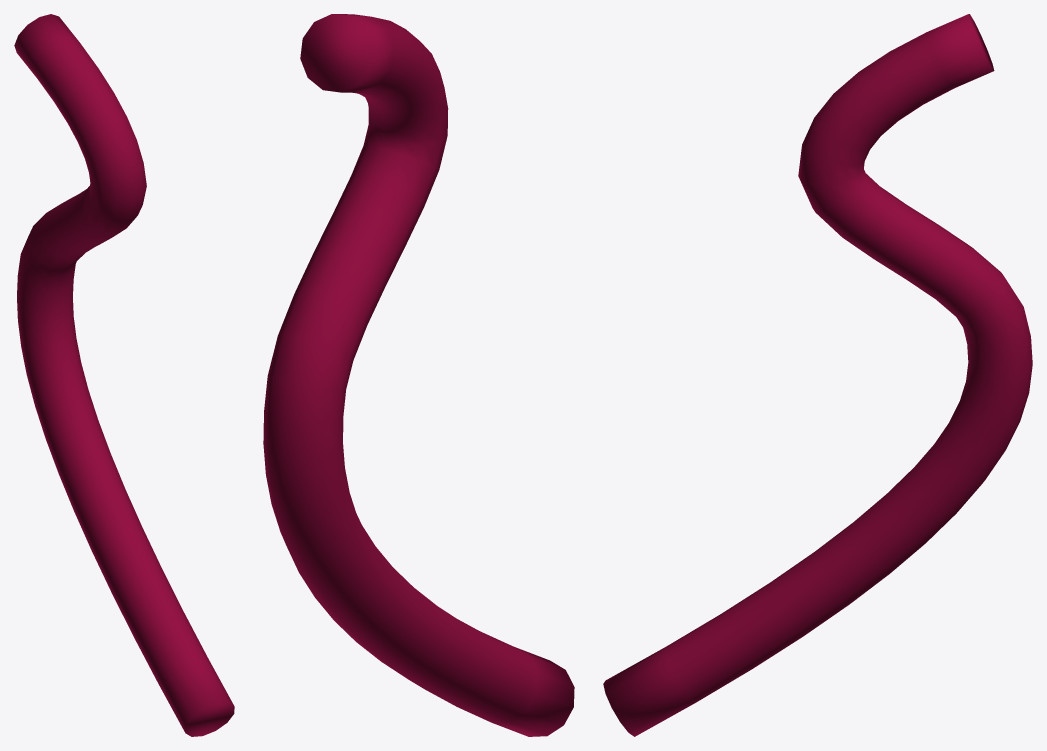
Rendered from droga_007.obj.
3 views of the same model, side by side, from view 1: azimuth 30°, elevation 25°; view 2: azimuth 150°, elevation 25°; view 3: azimuth 270°, elevation 25° (orthographic). The views are drawn at different scales.
Parts seen in each view (by area): view 1: DROGA_006; view 2: DROGA_006; view 3: DROGA_006.
Part boxes in pixels (left/top/right/bottom): DROGA_006: left=14, top=14, right=234, bottom=736; DROGA_006: left=263, top=14, right=574, bottom=736; DROGA_006: left=603, top=14, right=1032, bottom=736.
Bounding box in the file's own units: 0.336 × 3.07 × 1.69.
